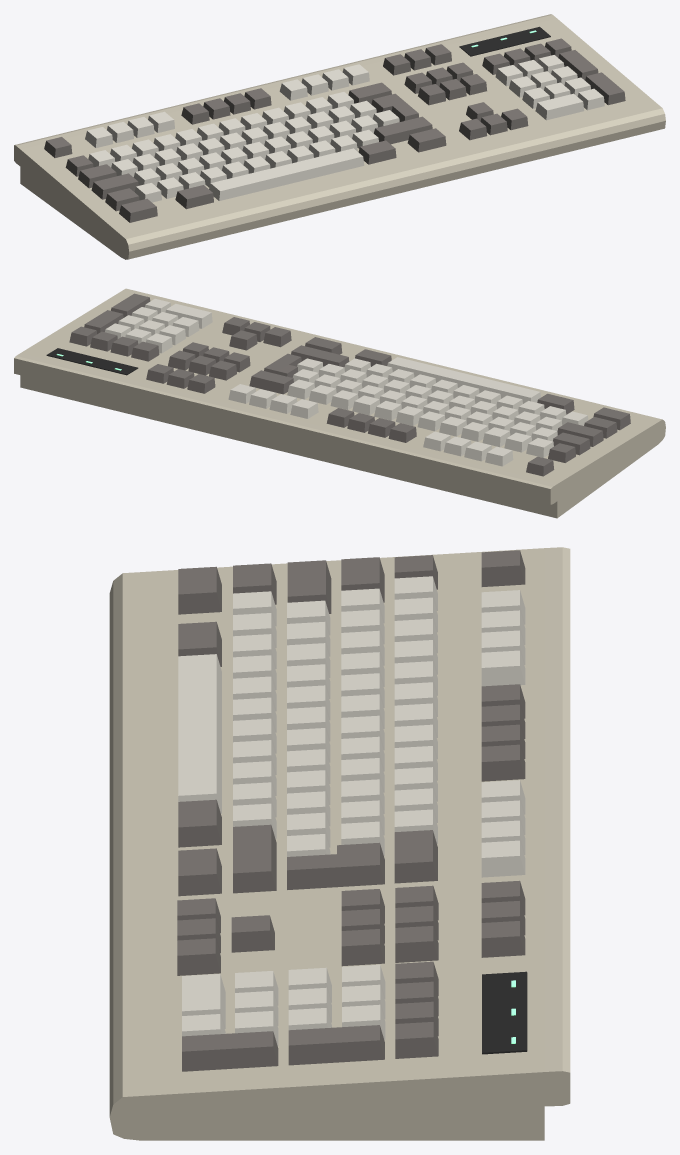
The model's file is compScience_keyBoard.fbx.
3 views of the same model, one above another, from view 1: azimuth 30°, elevation 25°; view 2: azimuth 150°, elevation 25°; view 3: azimuth 270°, elevation 25° (orthographic). The views are drawn at different scales.
Visible parts, largest first — view 1: compScience_keyBoard; view 2: compScience_keyBoard; view 3: compScience_keyBoard.
Part boxes in pixels (x1,y1,x2,y2): compScience_keyBoard: [14, 14, 665, 259]; compScience_keyBoard: [14, 288, 665, 518]; compScience_keyBoard: [109, 547, 570, 1140].
Size of the model in its own units: 62.14 by 4.75 by 23.09.
